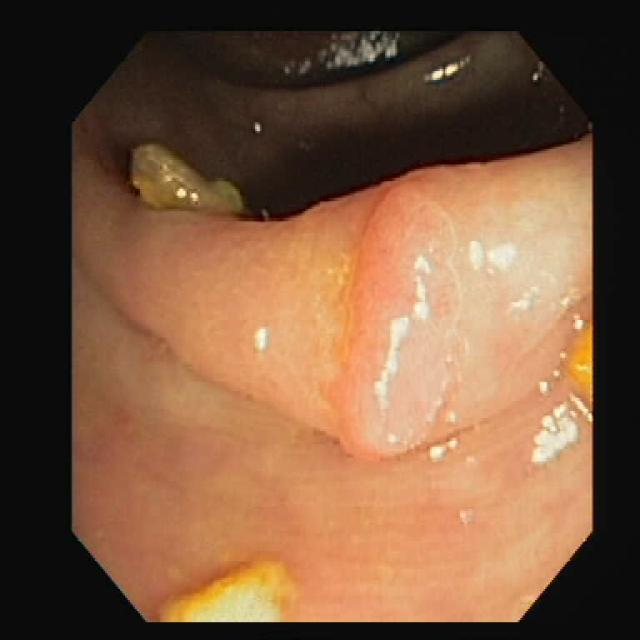tumor: (345, 191, 447, 453)
